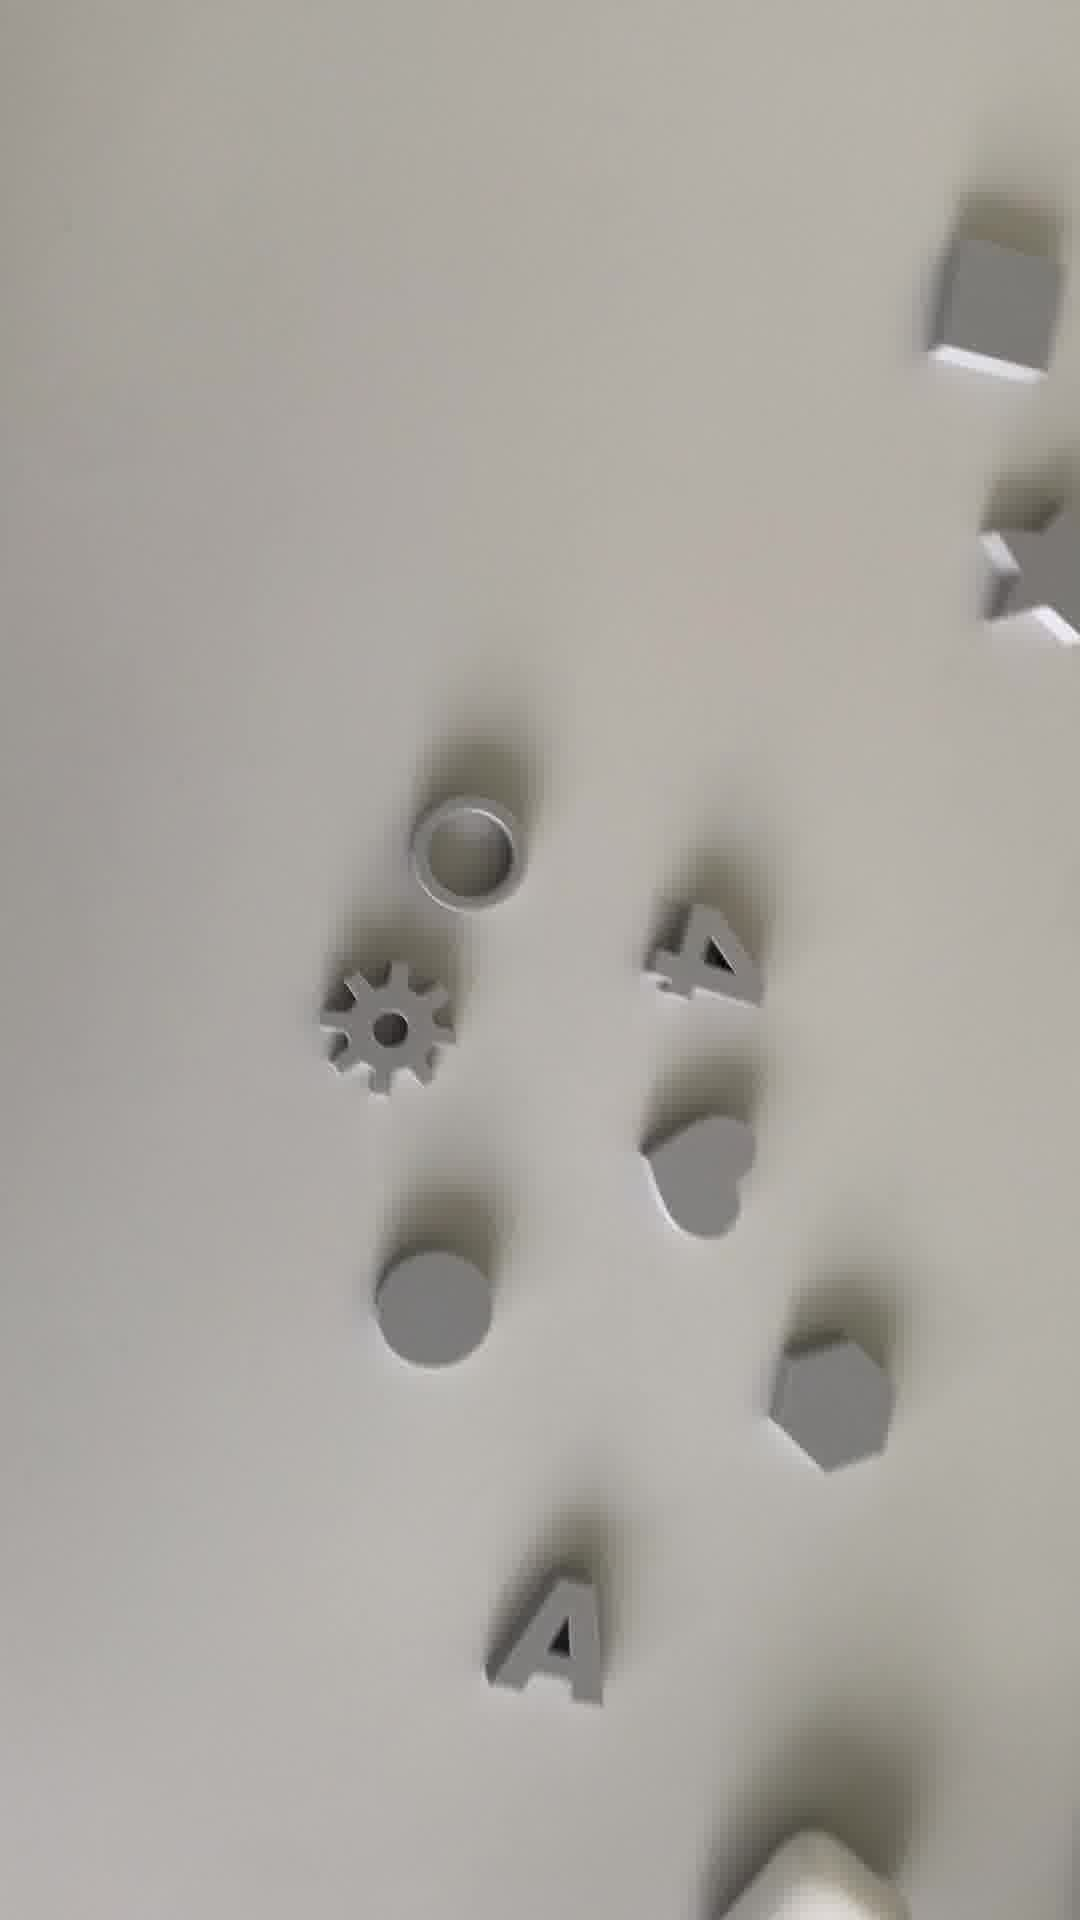Gray A-letter: (483, 1567, 624, 1706)
Gray circle: (369, 1242, 488, 1391)
Gray four: (641, 905, 775, 1021)
Gray gear: (318, 965, 458, 1106)
Gray heart: (632, 1108, 760, 1254)
Gray hexagon: (760, 1324, 905, 1485)
Gray ring: (407, 796, 530, 922)
Gray square: (930, 248, 1071, 389)
Gray star: (973, 497, 1080, 650)
